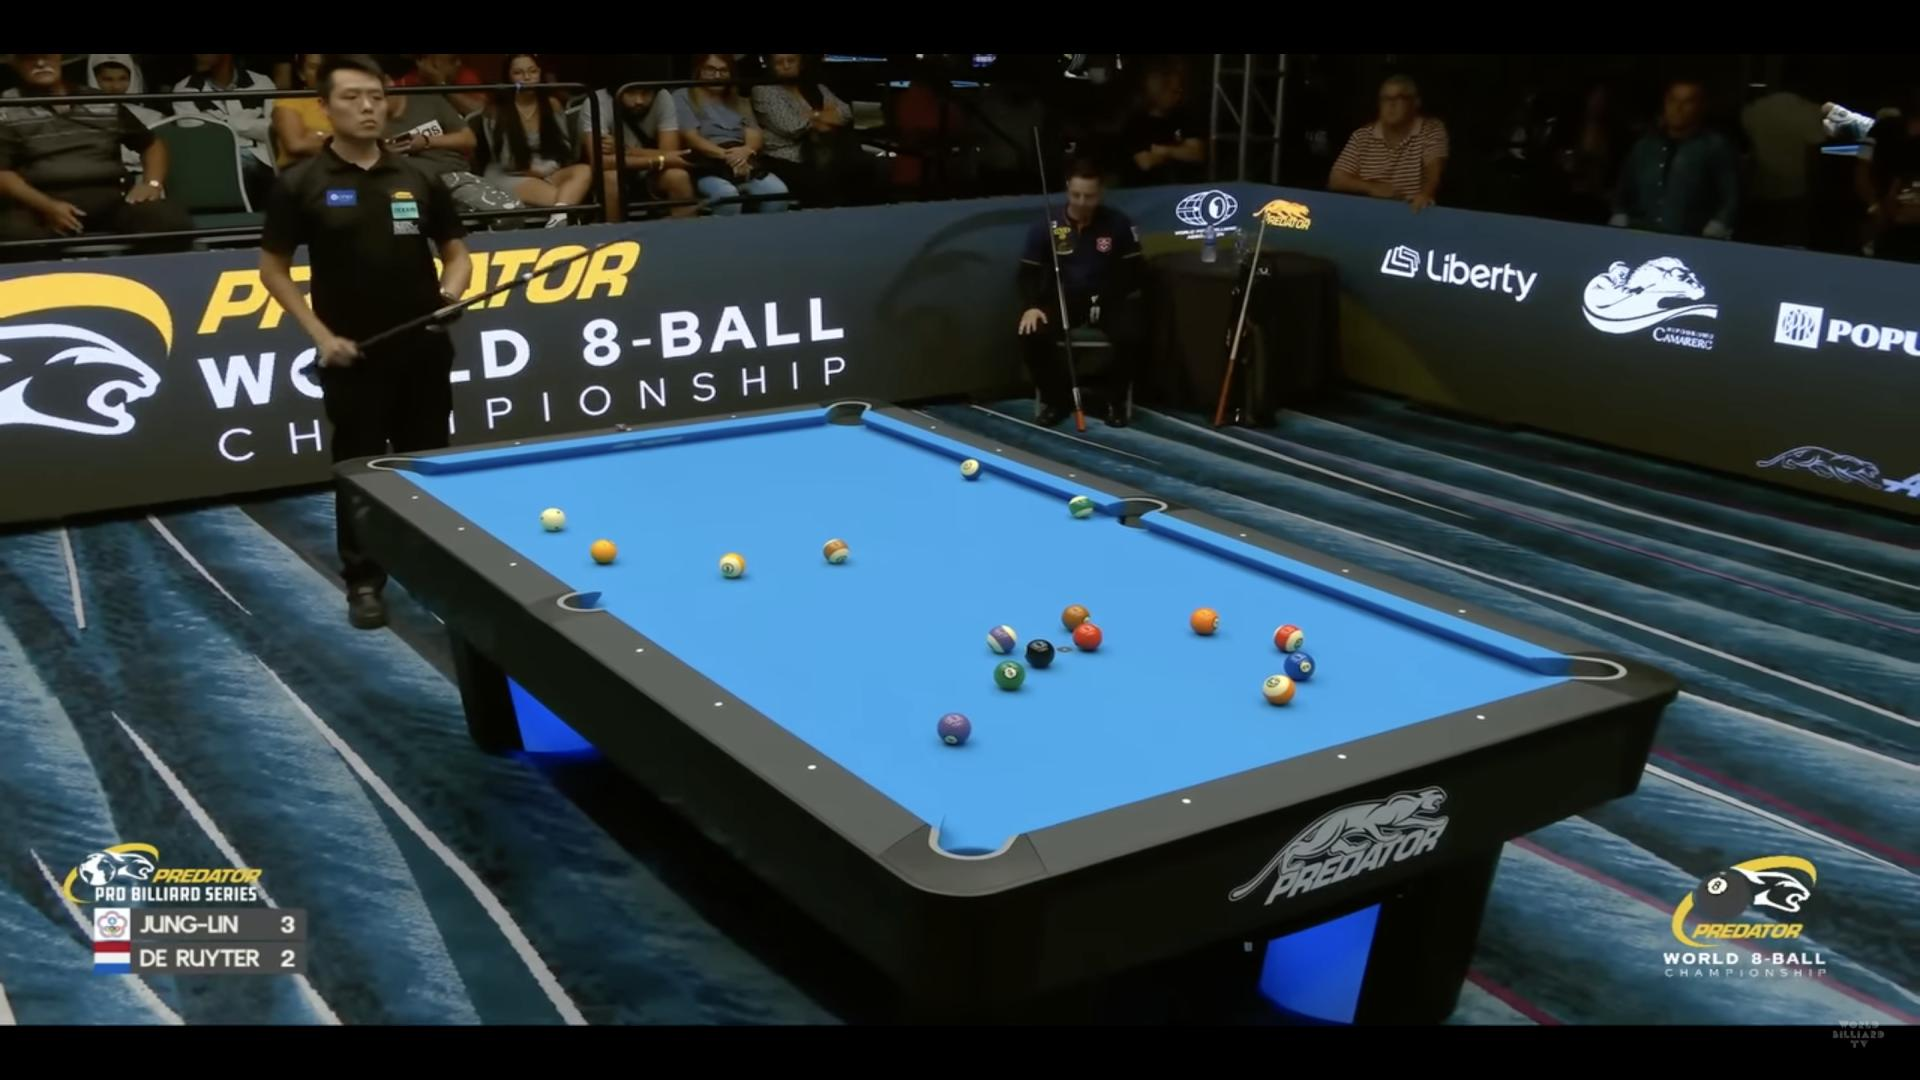Black: (1025, 640, 1055, 667)
Cue: (539, 506, 566, 531)
Dot: (1182, 796, 1192, 807), (1476, 712, 1486, 723), (1337, 752, 1348, 761), (1458, 608, 1468, 616), (1340, 567, 1349, 575), (807, 764, 816, 771), (715, 700, 724, 708), (636, 646, 645, 654), (1240, 531, 1247, 539), (1068, 472, 1076, 479), (996, 447, 1002, 454), (930, 425, 936, 431), (411, 495, 418, 501), (509, 562, 517, 567), (625, 426, 633, 431), (458, 526, 464, 531), (514, 440, 521, 446), (731, 414, 737, 419)
Solid: (936, 712, 972, 744), (1284, 651, 1316, 680), (994, 661, 1025, 690), (1072, 622, 1102, 650), (1062, 605, 1091, 632), (1189, 608, 1218, 634), (589, 538, 617, 563)
Striped: (1262, 674, 1295, 705), (1273, 624, 1304, 653), (986, 624, 1017, 653), (822, 538, 849, 563), (719, 553, 745, 578), (1068, 496, 1093, 517), (960, 458, 982, 479)
